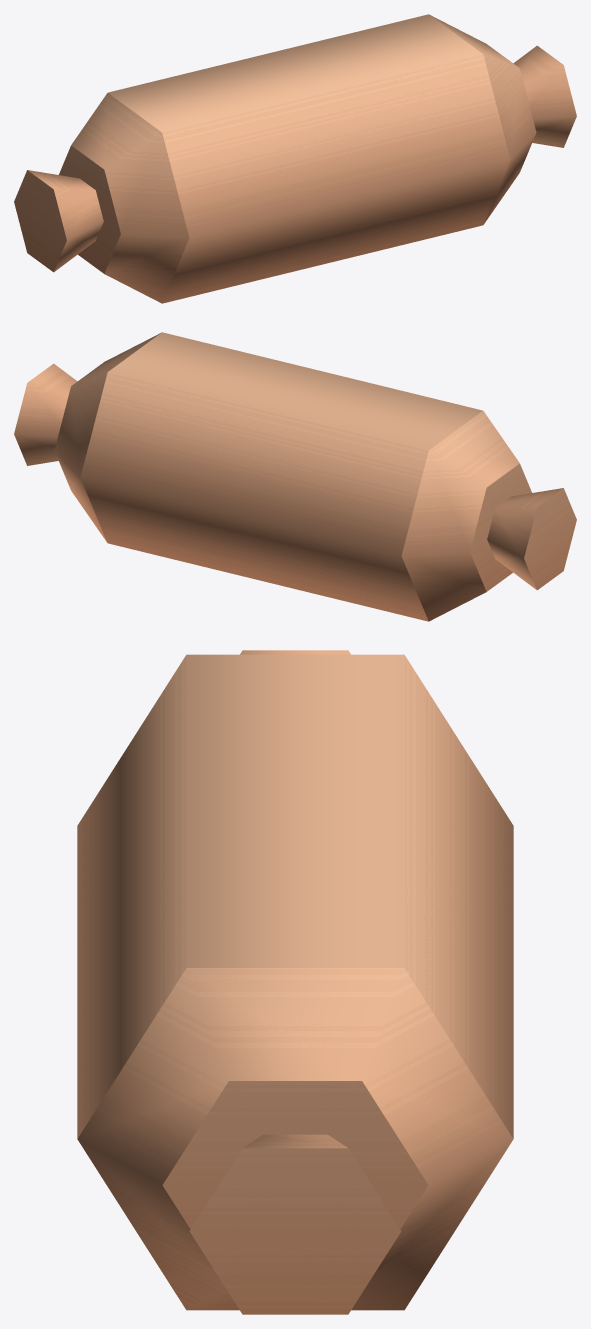
The model's file is sausage.glb.
3 renders of one model, top to bottom at view 1: azimuth 30°, elevation 25°; view 2: azimuth 150°, elevation 25°; view 3: azimuth 270°, elevation 25°, orthographic. The views are drawn at different scales.
Visible parts, largest first — view 1: sausage; view 2: sausage; view 3: sausage.
Boxes of the visible parts, box(x1,y1,x2,y2) form: sausage: box(14, 14, 576, 303); sausage: box(14, 332, 576, 621); sausage: box(77, 650, 513, 1314).
Size of the model in its own units: 0.3707 by 0.1189 by 0.1373.
Materials: 1 (1 with a texture image).
